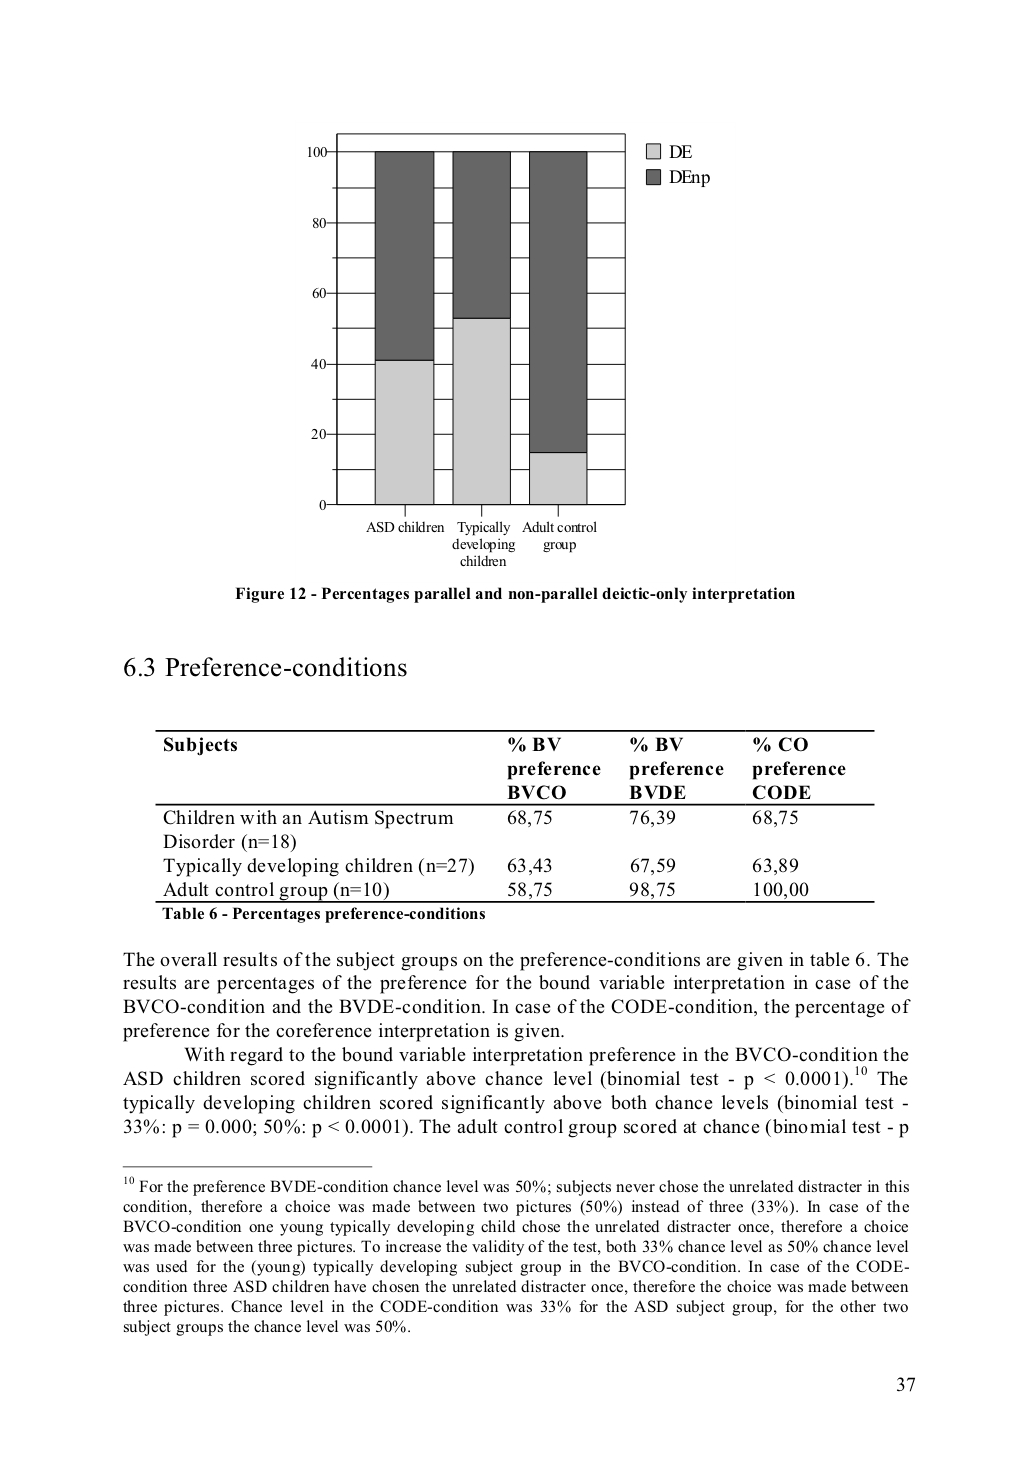Table: (155, 729, 874, 902)
figure: (308, 133, 625, 566)
